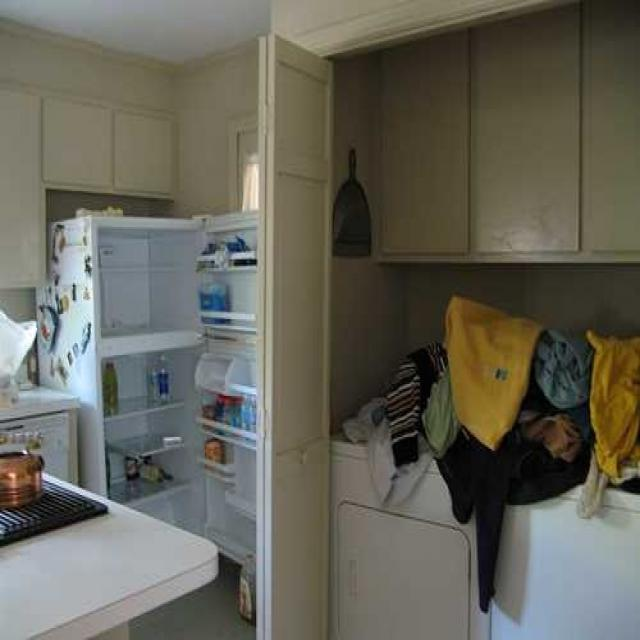refrigerator: (84, 211, 268, 584)
